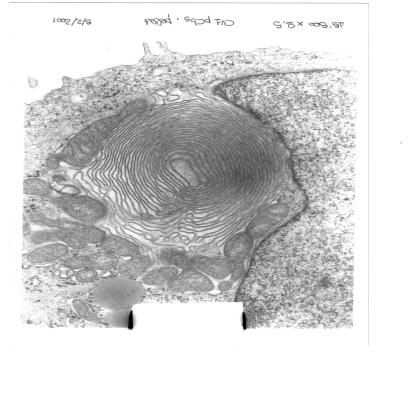mitochondria: (62, 98, 148, 168), (27, 209, 106, 250), (48, 194, 108, 223), (245, 204, 291, 238), (222, 231, 253, 281), (190, 253, 236, 280), (165, 268, 215, 292), (60, 251, 119, 270), (70, 298, 108, 326), (25, 242, 71, 264), (140, 265, 180, 286), (100, 236, 141, 256), (118, 253, 152, 277), (23, 179, 52, 197), (76, 268, 100, 283), (46, 154, 60, 170)
